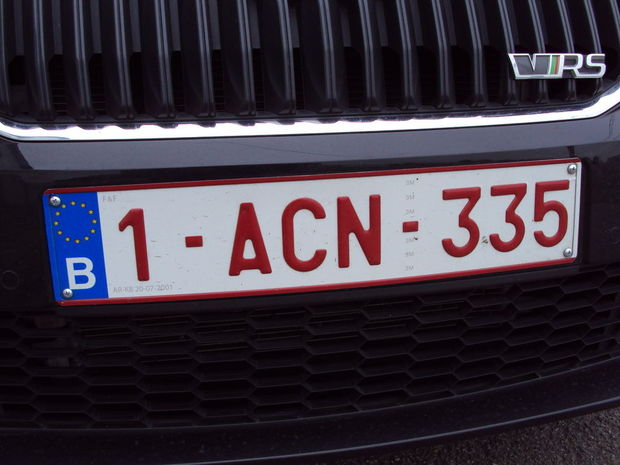licenceplate: (40, 160, 581, 308)
